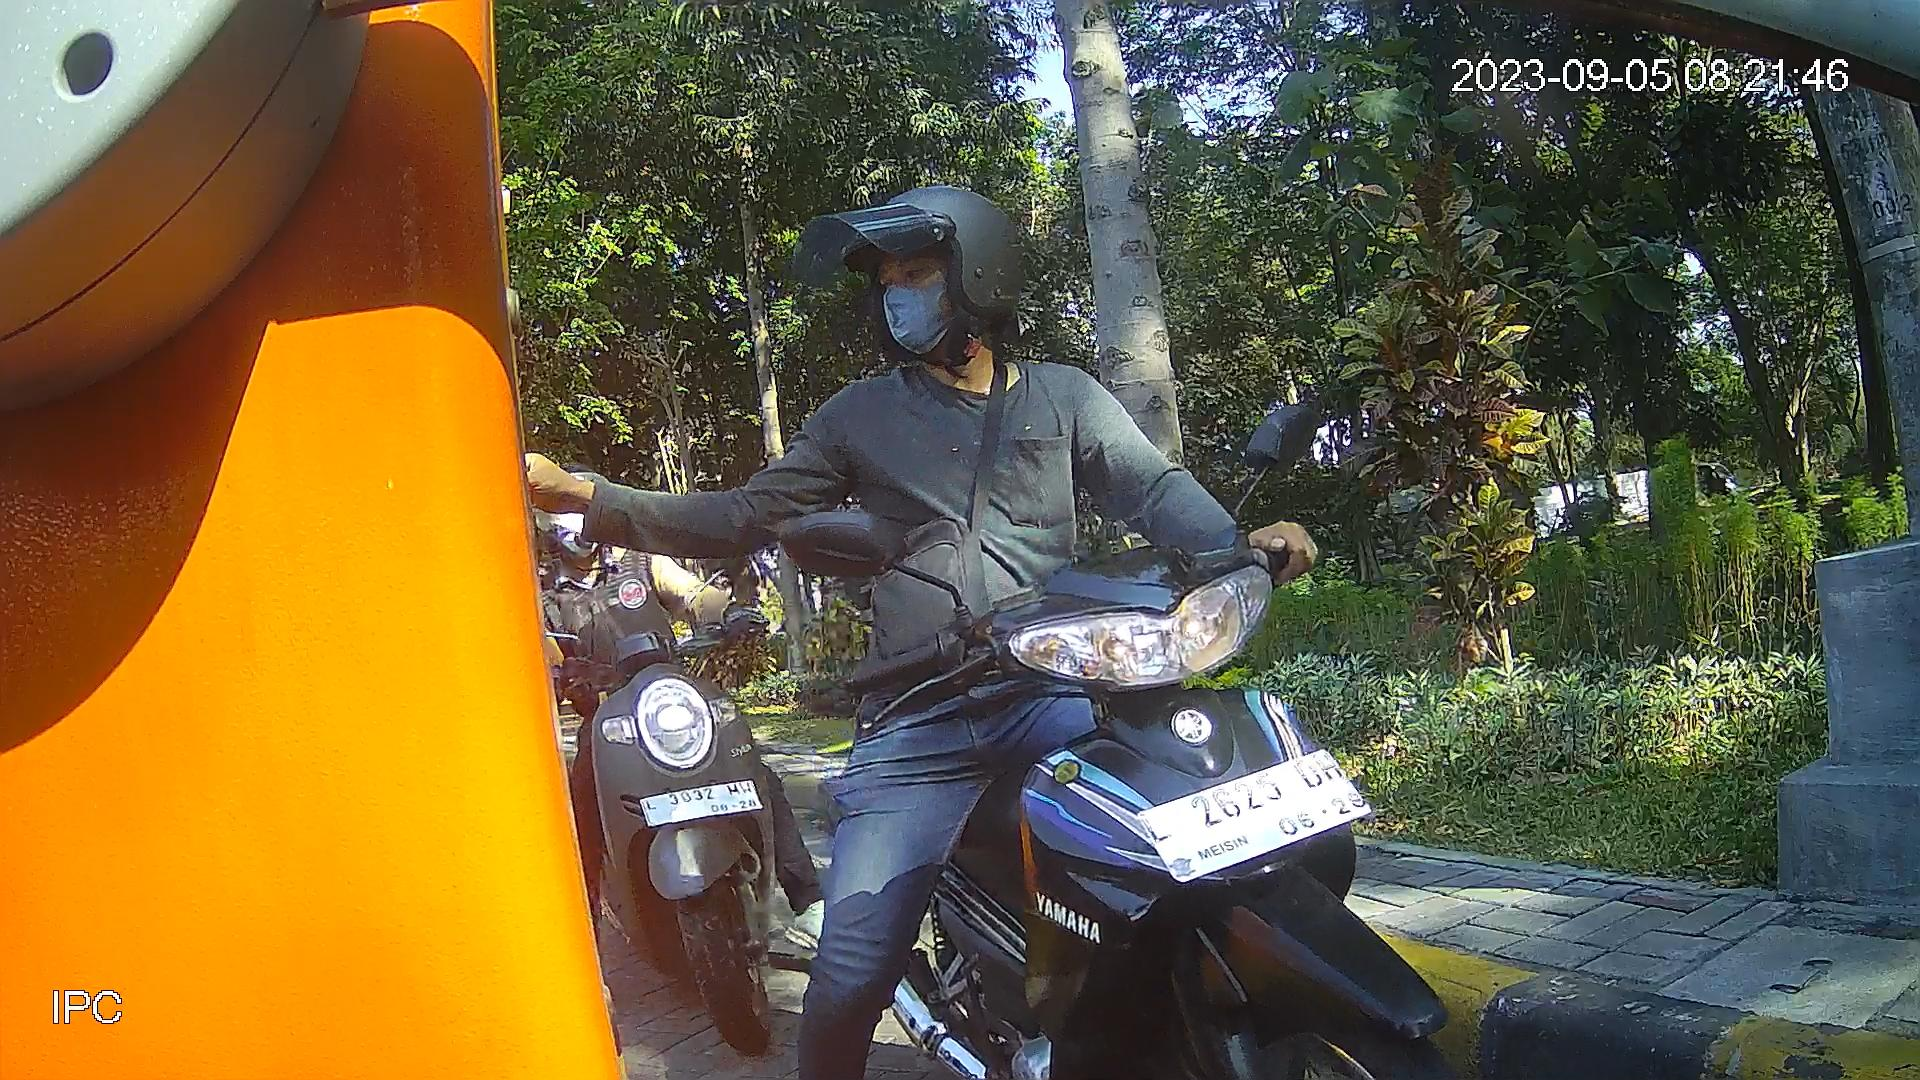plat: (1133, 745, 1378, 889), (637, 778, 765, 829)
